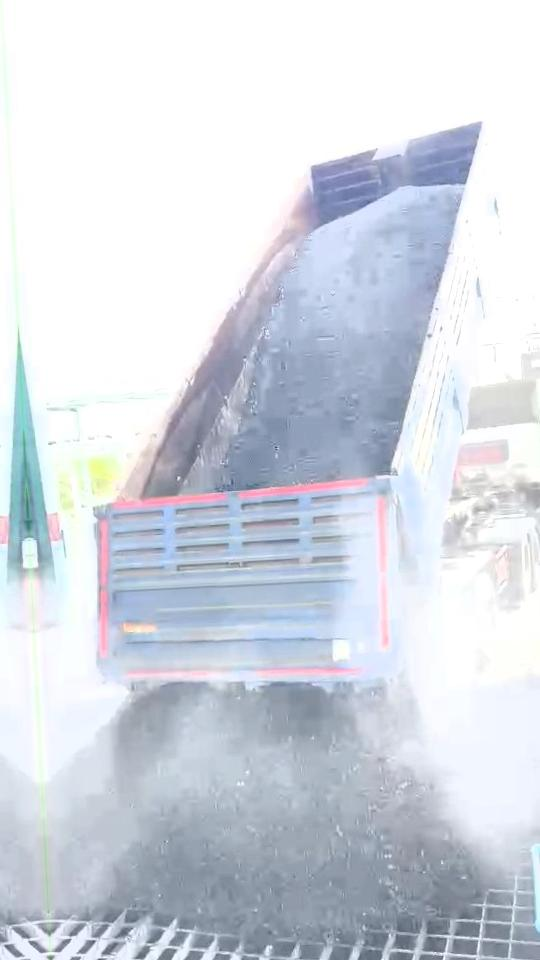gravel: (45, 685, 475, 932), (216, 186, 462, 488)
